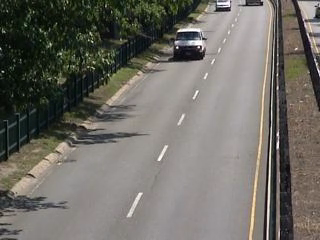car: (215, 1, 233, 13)
truck: (172, 27, 209, 62)
